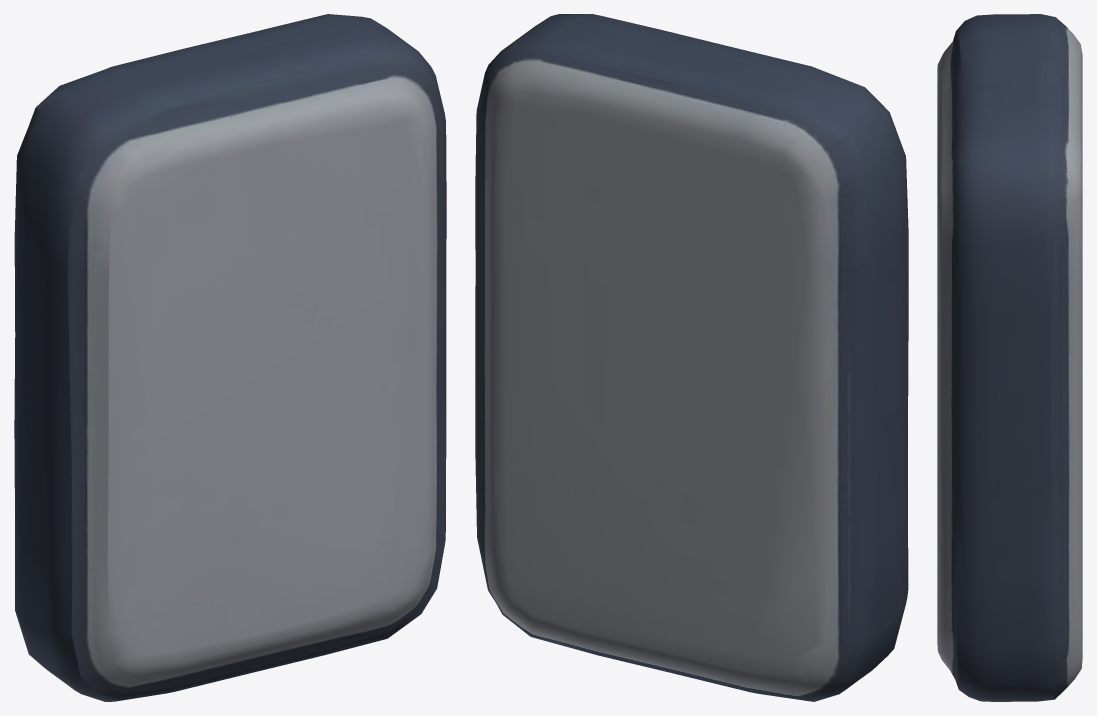
3 views of the same model, side by side, from view 1: azimuth 30°, elevation 25°; view 2: azimuth 150°, elevation 25°; view 3: azimuth 270°, elevation 25° (orthographic). The views are drawn at different scales.
Visible parts, largest first — view 1: Mesh0; view 2: Mesh0; view 3: Mesh0.
Boxes of the visible parts, x1,y1,x2,y2 form: Mesh0: [14, 14, 446, 701]; Mesh0: [475, 14, 908, 701]; Mesh0: [937, 14, 1082, 701].
Bounding box in the file's own units: 1.37 × 2.01 × 0.4687.
Materials: 1 (1 with a texture image).
